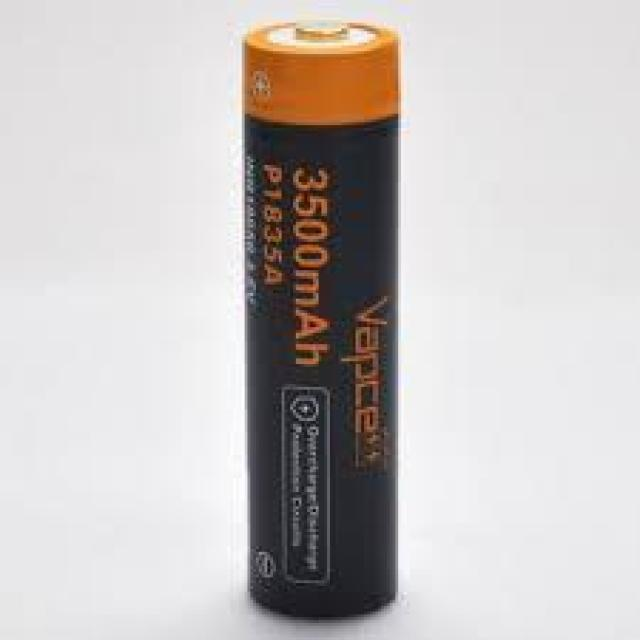AA: (238, 11, 405, 630)
